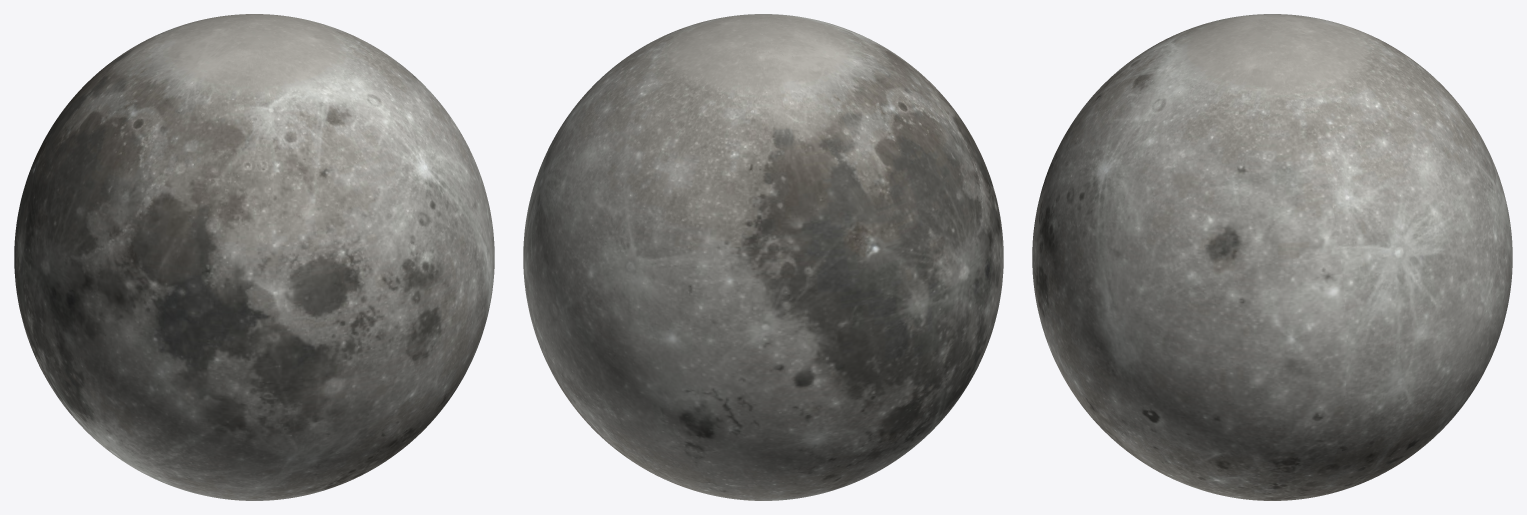
File: sceneMoon.gltf
The picture shows the model from 3 angles, left to right: view 1: azimuth 30°, elevation 25°; view 2: azimuth 150°, elevation 25°; view 3: azimuth 270°, elevation 25°; orthographic projection.
Parts seen in each view (by area): view 1: pSphere1; view 2: pSphere1; view 3: pSphere1.
Part boxes in pixels (bbox=[...]): pSphere1: bbox=[14, 14, 494, 500]; pSphere1: bbox=[523, 14, 1003, 500]; pSphere1: bbox=[1032, 14, 1512, 500].
Bounding box in the file's own units: 0.1268 × 0.1292 × 0.1268.
Materials: 1 (1 with a texture image).
